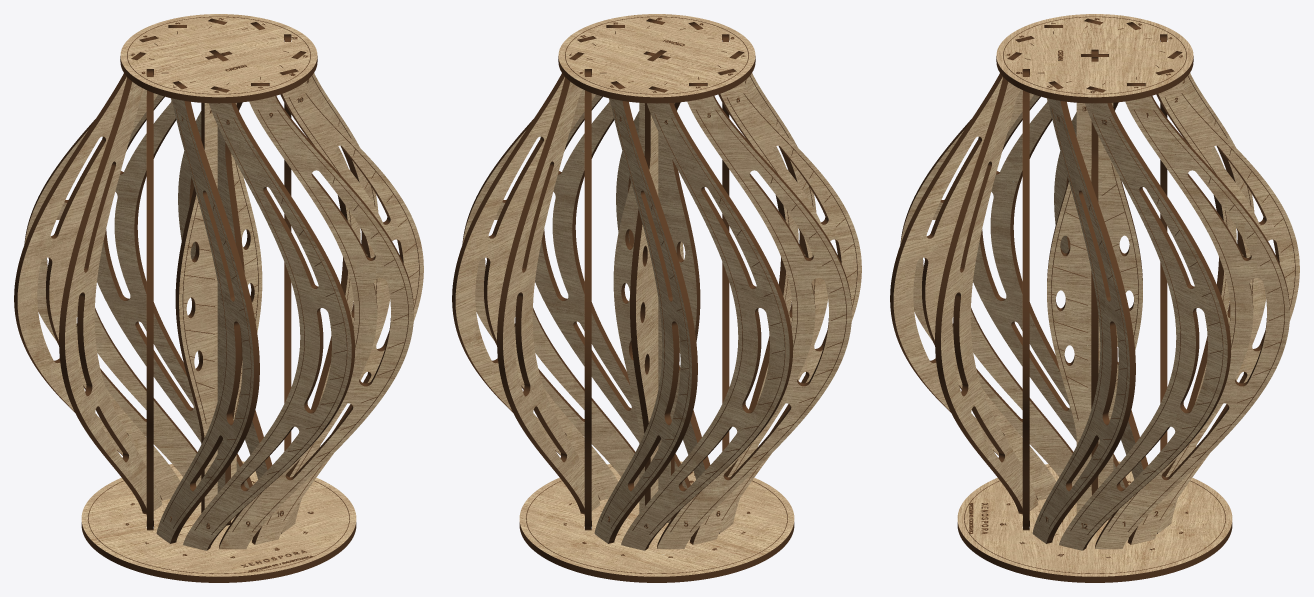
Rendered from xenospora.glb.
The picture shows the model from 3 angles, left to right: view 1: azimuth 30°, elevation 25°; view 2: azimuth 150°, elevation 25°; view 3: azimuth 270°, elevation 25°; orthographic projection.
Parts seen in each view (by area): view 1: body7, body8, body12, body13, body6, body4, body3, body14, body9, body1, body2, body5 (+11 smaller); view 2: body3, body4, body12, body13, body2, body0, body11, body5, body9, body14, body10, body15 (+10 smaller); view 3: body11, body0, body12, body13, body10, body15, body8, body7, body1, body5, body6, body9 (+11 smaller).
Part boxes in pixels (<box>): body7: <box>183,86,355,550</box>; body8: <box>219,83,413,549</box>; body12: <box>81,461,356,582</box>; body13: <box>120,14,317,103</box>; body6: <box>156,81,259,543</box>; body4: <box>59,52,162,514</box>; body3: <box>14,36,180,500</box>; body14: <box>175,51,262,512</box>; body9: <box>251,69,423,544</box>; body1: <box>97,18,252,488</box>; body2: <box>24,25,201,486</box>; body5: <box>147,69,153,530</box>; body3: <box>621,86,793,550</box>; body4: <box>657,83,851,549</box>; body12: <box>519,461,794,582</box>; body13: <box>558,14,755,103</box>; body2: <box>594,81,697,543</box>; body0: <box>497,52,600,514</box>; body11: <box>452,36,618,500</box>; body5: <box>689,69,861,544</box>; body9: <box>535,18,690,488</box>; body14: <box>613,51,700,522</box>; body10: <box>462,25,639,486</box>; body15: <box>630,50,683,505</box>; body11: <box>1059,86,1231,550</box>; body0: <box>1095,83,1289,549</box>; body12: <box>957,461,1232,582</box>; body13: <box>996,14,1193,103</box>; body10: <box>1032,81,1135,543</box>; body15: <box>1047,54,1142,520</box>; body8: <box>935,52,1038,514</box>; body7: <box>890,36,1056,500</box>; body1: <box>1127,69,1299,544</box>; body5: <box>973,18,1128,488</box>; body6: <box>900,25,1091,490</box>; body9: <box>1023,69,1029,530</box>.
Size of the model in its own units: 0.1789 by 0.2261 by 0.1789.
3 materials, 1 textured.
